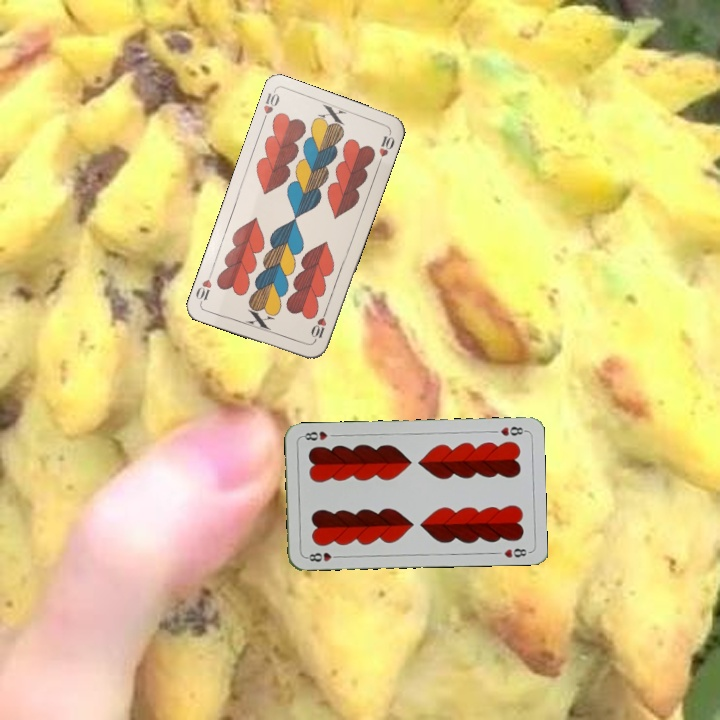H10: (258, 87, 282, 127), (307, 306, 329, 345)
H8: (302, 549, 343, 564), (496, 423, 528, 439)
